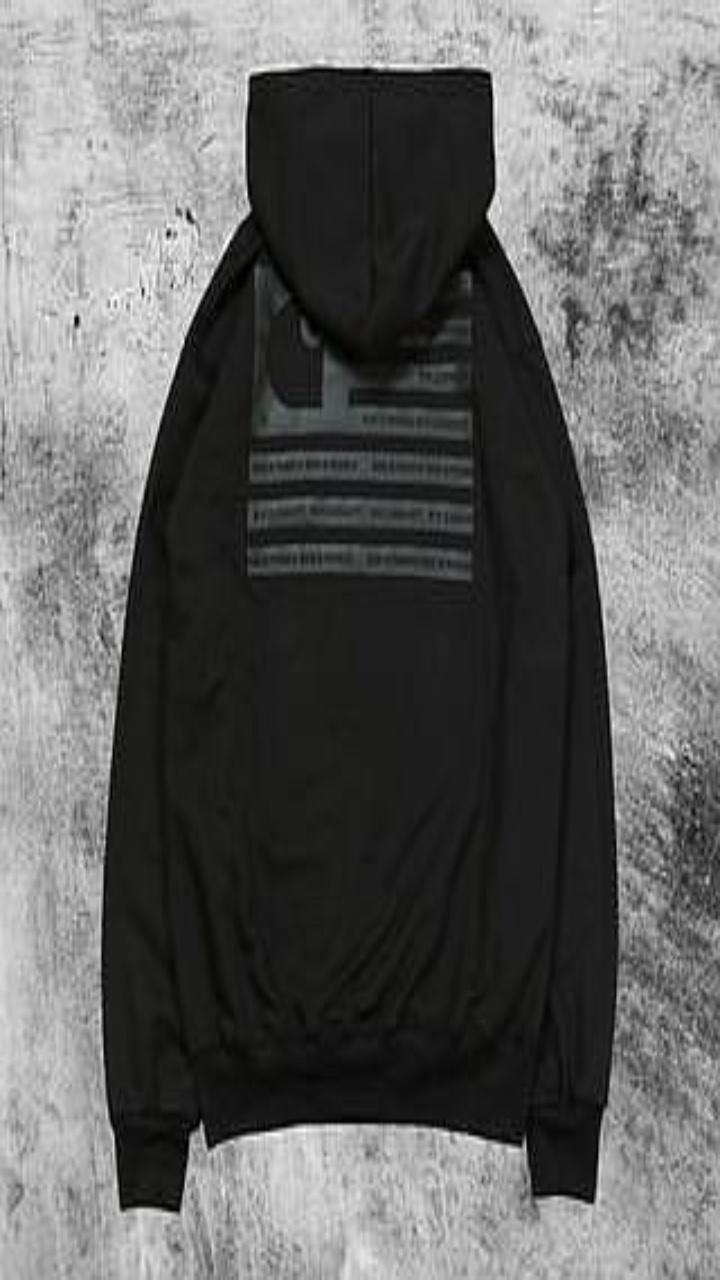Hoodie: (102, 66, 617, 1209)
